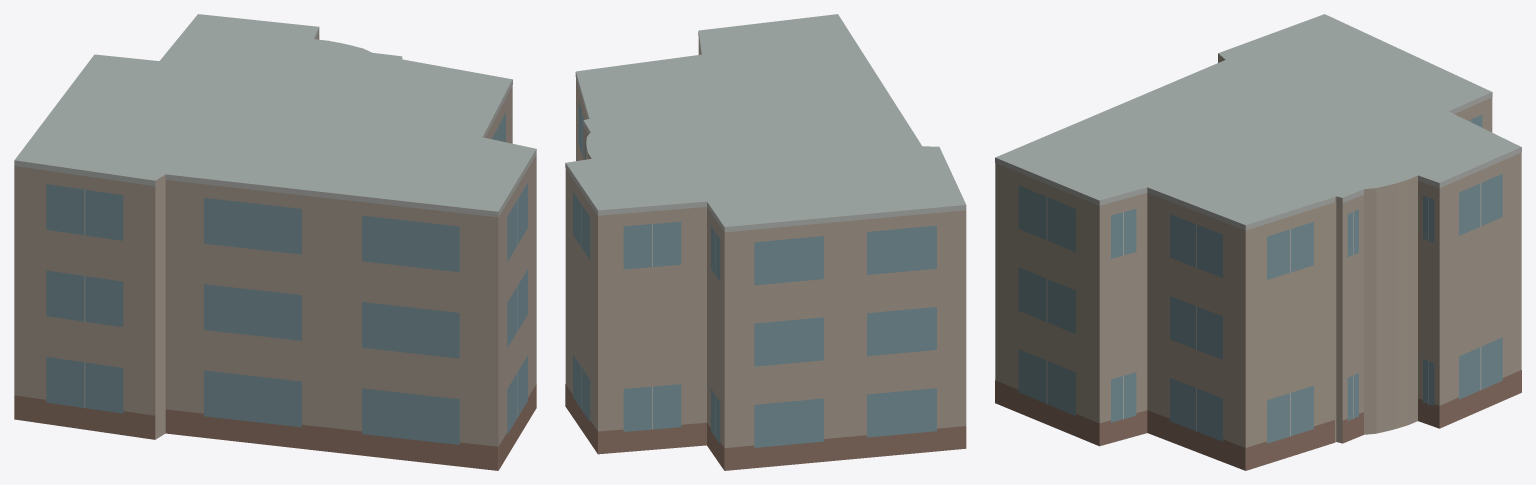
The model's file is survey-upis-32833153.glb.
3 renders of one model, left to right at view 1: azimuth 30°, elevation 25°; view 2: azimuth 150°, elevation 25°; view 3: azimuth 270°, elevation 25°, orthographic. The views are drawn at different scales.
Parts seen in each view (by area): view 1: survey-upis-32833153.tmp; view 2: survey-upis-32833153.tmp; view 3: survey-upis-32833153.tmp.
Part boxes in pixels (x1,y1,x2,y2): survey-upis-32833153.tmp: (14,14,536,470); survey-upis-32833153.tmp: (565,14,966,470); survey-upis-32833153.tmp: (995,14,1521,470).
Size of the model in its own units: 20.82 by 11.28 by 21.92.
